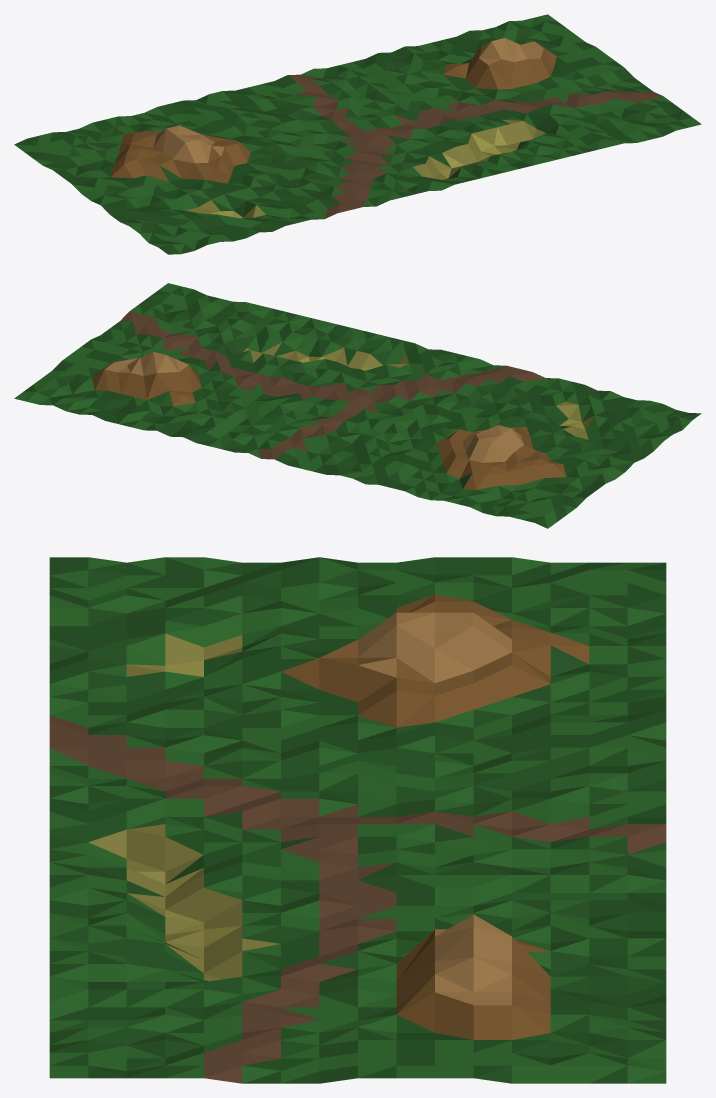
The model's file is Terrain.fbx.
3 views of the same model, one above another, from view 1: azimuth 30°, elevation 25°; view 2: azimuth 150°, elevation 25°; view 3: azimuth 270°, elevation 25° (orthographic). The views are drawn at different scales.
Visible parts, largest first — view 1: Terrain; view 2: Terrain; view 3: Terrain.
Boxes of the visible parts, x1,y1,x2,y2 form: Terrain: (14,14,701,254); Terrain: (14,283,701,528); Terrain: (49,557,666,1083).
Bounding box in the file's own units: 60000 × 4535 × 30000.
